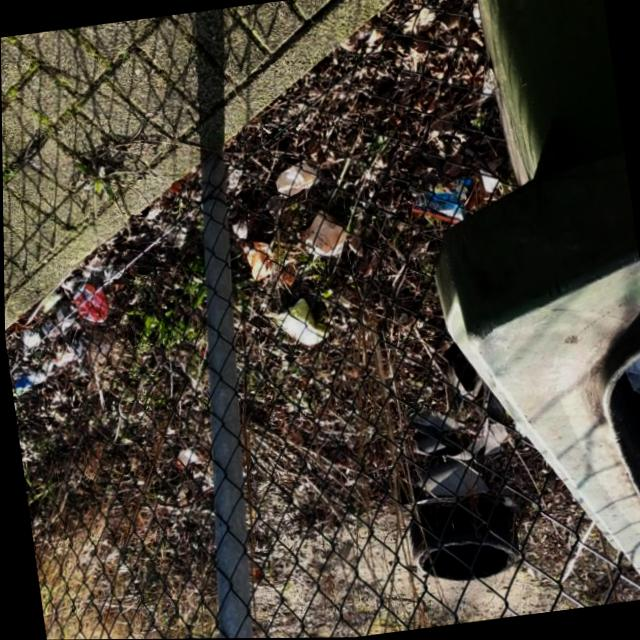Can-Metal: (63, 279, 111, 328), (36, 301, 76, 339), (10, 359, 55, 391), (47, 337, 85, 368), (36, 285, 66, 314)
Cup: (171, 447, 198, 470)
Paper: (298, 206, 349, 260), (272, 159, 323, 200), (478, 167, 501, 196), (20, 328, 41, 348)
Plastic: (407, 176, 477, 230), (269, 295, 332, 351)
